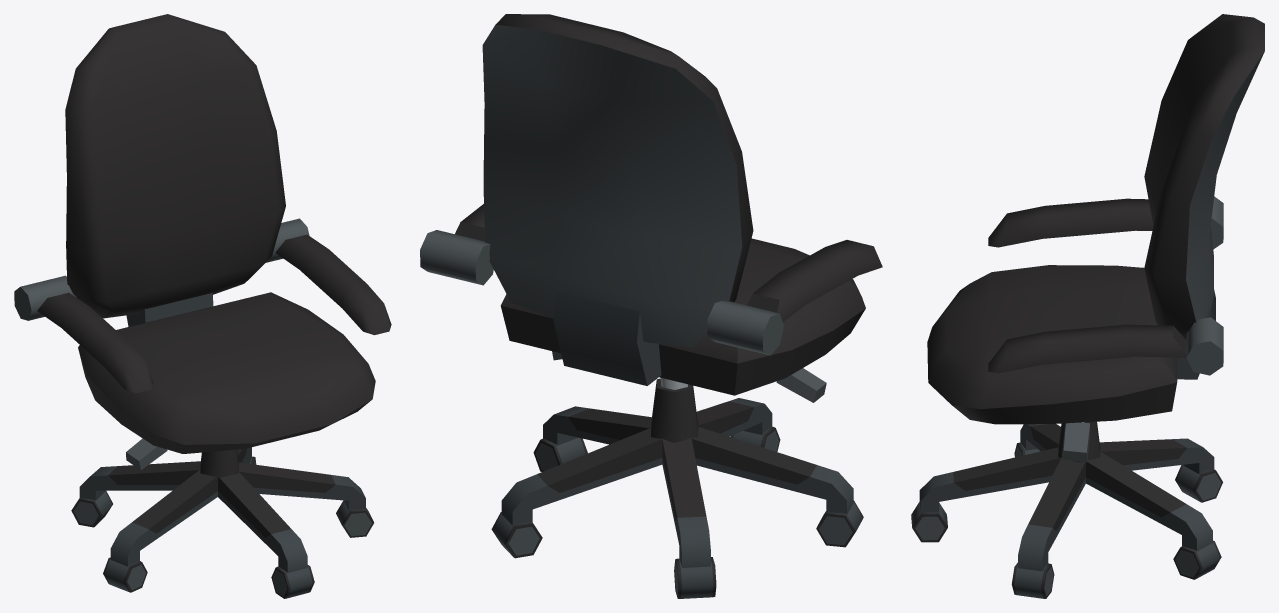
Rendered from chair-office-01.glb.
The picture shows the model from 3 angles, left to right: view 1: azimuth 30°, elevation 25°; view 2: azimuth 150°, elevation 25°; view 3: azimuth 270°, elevation 25°; orthographic projection. The views are drawn at different scales.
Visible parts, largest first — view 1: Chair_Office_Part_01, Chair_Office_01; view 2: Chair_Office_Part_01, Chair_Office_01; view 3: Chair_Office_Part_01, Chair_Office_01.
Part boxes in pixels (x1=…): Chair_Office_Part_01: x1=14, y1=14, x2=391, y2=469; Chair_Office_01: x1=71, y1=447, x2=373, y2=598; Chair_Office_Part_01: x1=420, y1=14, x2=882, y2=402; Chair_Office_01: x1=491, y1=378, x2=863, y2=598; Chair_Office_Part_01: x1=927, y1=14, x2=1264, y2=462; Chair_Office_01: x1=911, y1=421, x2=1222, y2=598.
Size of the model in its own units: 0.6427 by 1.02 by 0.6504.
1 material, 1 textured.
